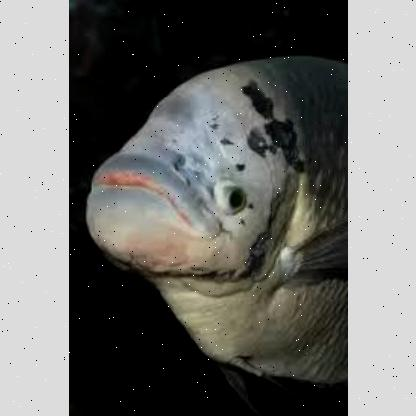gurame: (75, 50, 346, 396)
